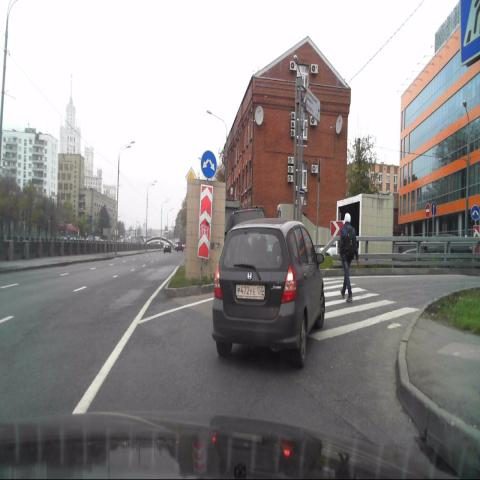2_1: (186, 168, 197, 186)
3_1: (424, 200, 430, 216)
4_1_1: (431, 202, 438, 216)
4_2_3: (200, 148, 218, 179), (470, 204, 479, 222)
5_19_1: (460, 0, 479, 65)
